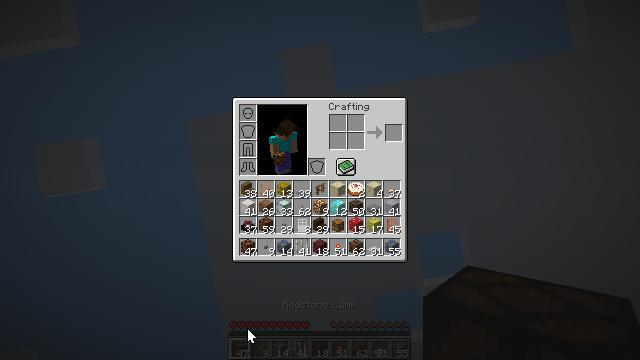cursor: (247, 328, 257, 344)
